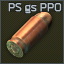9x18mm PM PS gs PPO: (0, 0, 64, 64)
